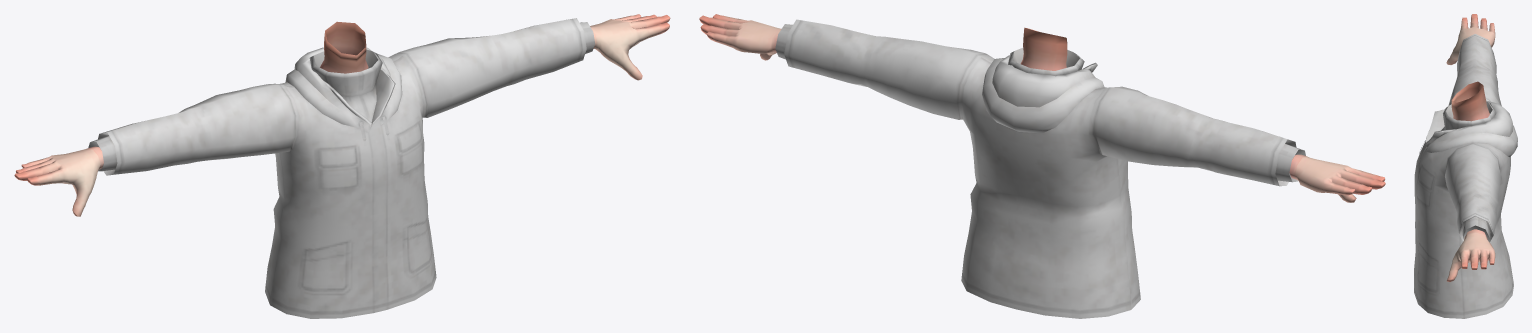
Rendered from tr0760_00_upb03.gltf.
3 views of the same model, side by side, from view 1: azimuth 30°, elevation 25°; view 2: azimuth 150°, elevation 25°; view 3: azimuth 270°, elevation 25° (orthographic). The views are drawn at different scales.
Visible parts, largest first — view 1: upb03_upperbody_mesh_shape:upperbody03, upb03_upperbodyskin_mesh_shape:upperbody03_skin; view 2: upb03_upperbody_mesh_shape:upperbody03, upb03_upperbodyskin_mesh_shape:upperbody03_skin; view 3: upb03_upperbody_mesh_shape:upperbody03, upb03_upperbodyskin_mesh_shape:upperbody03_skin.
Part boxes in pixels (<box>): upb03_upperbody_mesh_shape:upperbody03: <box>88,18,595,318</box>; upb03_upperbodyskin_mesh_shape:upperbody03_skin: <box>14,14,670,216</box>; upb03_upperbody_mesh_shape:upperbody03: <box>775,19,1305,318</box>; upb03_upperbodyskin_mesh_shape:upperbody03_skin: <box>699,14,1385,202</box>; upb03_upperbody_mesh_shape:upperbody03: <box>1414,34,1517,318</box>; upb03_upperbodyskin_mesh_shape:upperbody03_skin: <box>1446,14,1495,281</box>.
Size of what is drawn, in the model's own units: 1.63 by 0.6142 by 0.2822.
Materials: 2 (2 with a texture image).
